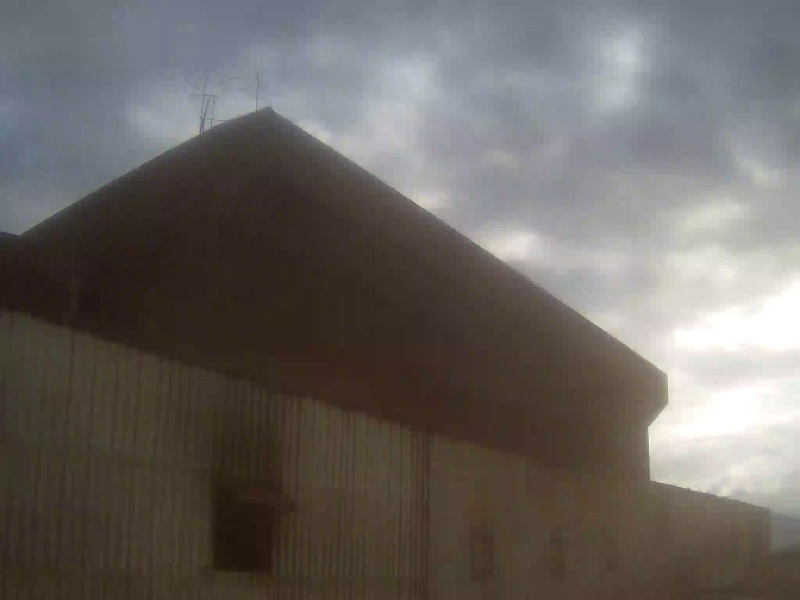bom: (263, 16, 708, 444), (5, 7, 283, 178)
